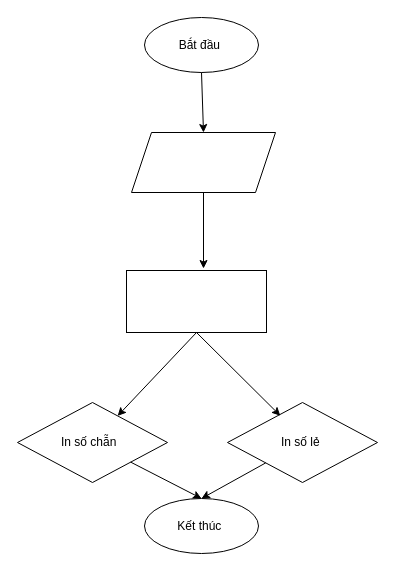
Image size: 395x571. Some labels were removed from this diagram. The shapes that lost their labels are listed below. From the top down, each one's centre as x and y in pixels, then its label:
(x=203, y=162): Nhập số nguyên n
(x=196, y=301): Kiểm tra n % 2 == 0 ?
